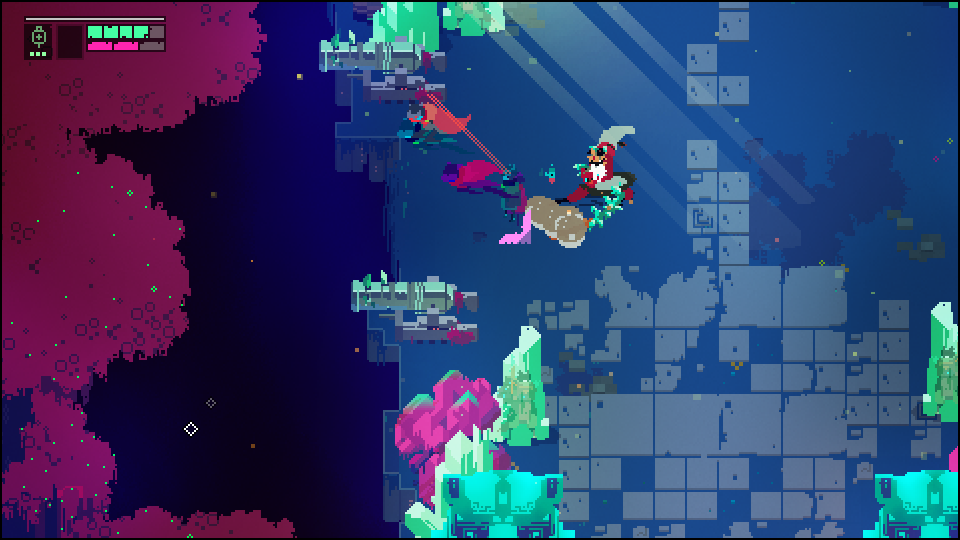hanged_man: (552, 125, 634, 236)
player: (398, 104, 461, 138)
